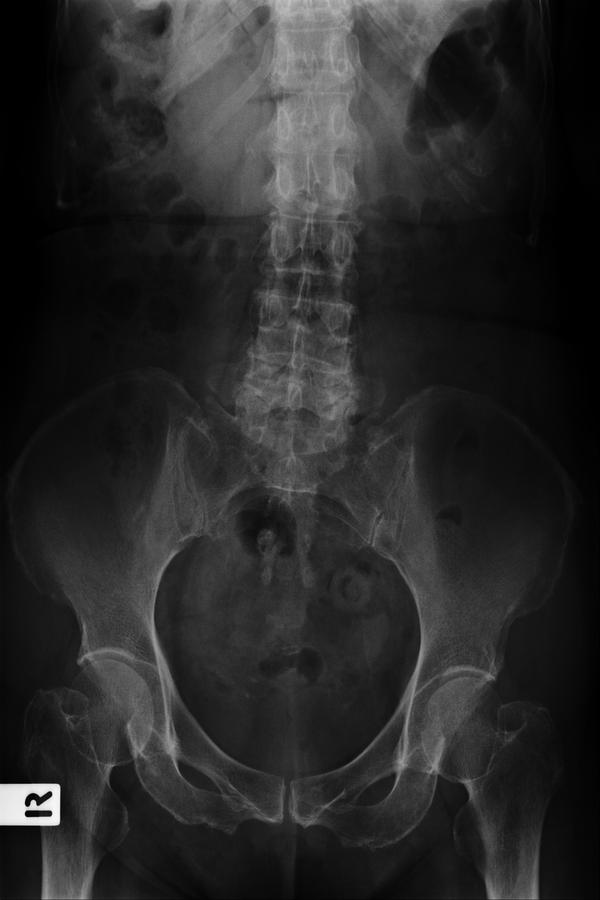lumbar scoliosis: (231, 69, 365, 432)
